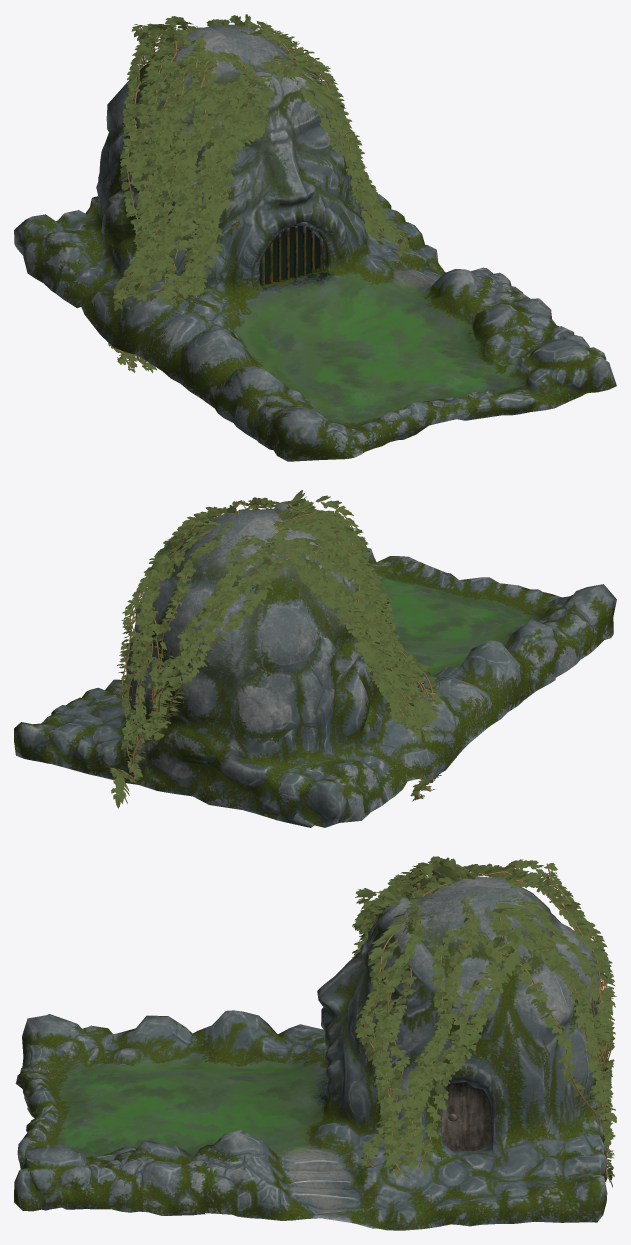
Rendered from cave.gltf.
3 renders of one model, top to bottom at view 1: azimuth 30°, elevation 25°; view 2: azimuth 150°, elevation 25°; view 3: azimuth 270°, elevation 25°, orthographic. The views are drawn at different scales.
Parts seen in each view (by area): view 1: cave_low, ivy; view 2: cave_low, ivy; view 3: cave_low, ivy.
Boxes of the visible parts, x1=… form: cave_low: x1=14, y1=24, x2=616, y2=461; ivy: x1=107, y1=14, x2=412, y2=372; cave_low: x1=14, y1=503, x2=616, y2=827; ivy: x1=110, y1=490, x2=456, y2=808; cave_low: x1=14, y1=876, x2=611, y2=1230; ivy: x1=352, y1=856, x2=616, y2=1187.
Size of the model in its own units: 2.71 by 2.14 by 4.08.
3 materials, 1 textured.
